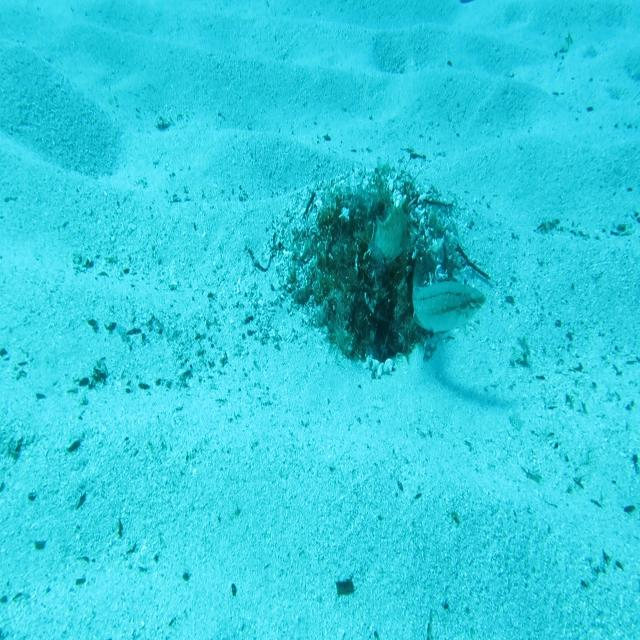NIP_IN: (370, 196, 412, 268)
core_nest: (345, 201, 387, 249)
female: (410, 255, 487, 334)
nest: (266, 168, 482, 401)
vegetation: (335, 578, 355, 594)
